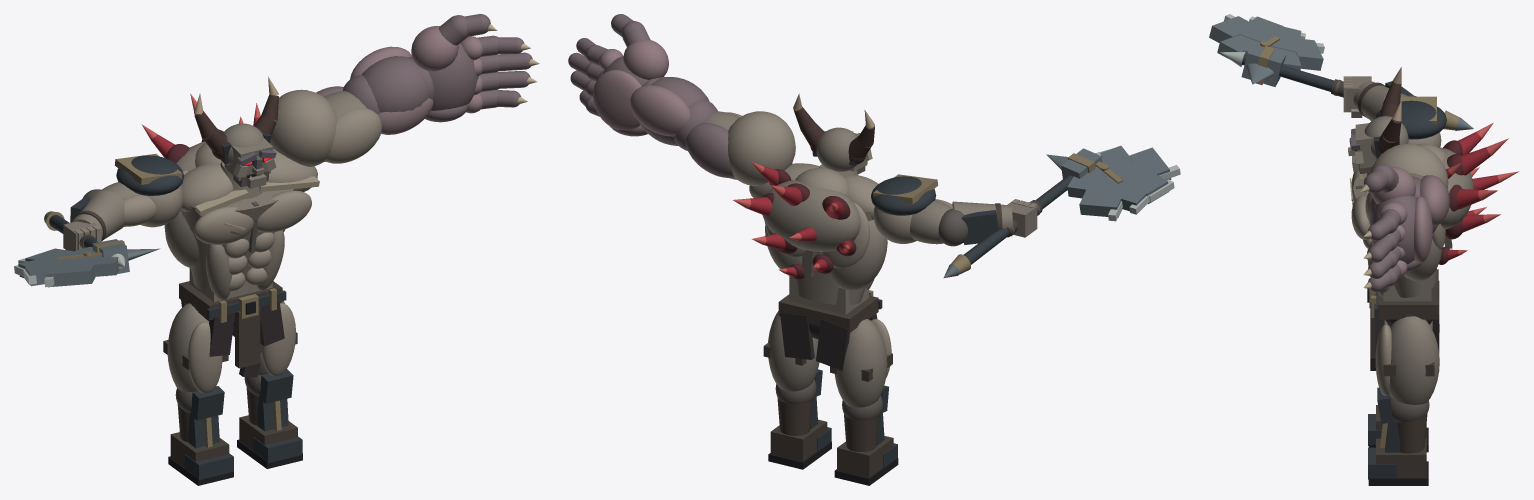
Rendered from FSA_ENEMY_D001_Chaos.glb.
3 renders of one model, left to right at view 1: azimuth 30°, elevation 25°; view 2: azimuth 150°, elevation 25°; view 3: azimuth 270°, elevation 25°, orthographic. The views are drawn at different scales.
Visible parts, largest first — view 1: Deltoid_L, ForearmMesh_L, Biceps_L, Palm_L, Ribcage, Thigh_R, Trapezius_R, Pauldron_R, Quadriceps_R, Pectoral_R, Pectoral_L, ThumbBase_L (+30 smaller); view 2: Deltoid_L, HunchedUpperBack, Thigh_R, ForearmExtensor_L, PalmDorsal_L, Thigh_L, Triceps_L, Latissimus_R, Pauldron_R, Belt, ThumbBase_L, Ribcage (+24 smaller); view 3: Thigh_L, Deltoid_L, Pauldron_R, Belt, Boot_L, PalmDorsal_L, Palm_L, ForearmExtensor_L, Quadriceps_L, Shin_L, HunchedUpperBack, ForearmMesh_R (+28 smaller).
Part boxes in pixels (<box>): Deltoid_L: <box>270,89,336,166</box>; ForearmMesh_L: <box>361,56,428,112</box>; Biceps_L: <box>325,108,381,163</box>; Palm_L: <box>428,43,478,110</box>; Ribcage: <box>180,189,294,291</box>; Thigh_R: <box>167,303,209,391</box>; Trapezius_R: <box>181,163,233,211</box>; Pauldron_R: <box>116,155,183,195</box>; Quadriceps_R: <box>188,322,222,393</box>; Pectoral_R: <box>193,206,253,244</box>; Pectoral_L: <box>257,190,311,232</box>; ThumbBase_L: <box>411,26,458,71</box>; Deltoid_L: <box>728,111,795,186</box>; HunchedUpperBack: <box>762,180,860,251</box>; Thigh_R: <box>834,319,887,407</box>; ForearmExtensor_L: <box>630,85,690,136</box>; PalmDorsal_L: <box>593,70,641,130</box>; Thigh_L: <box>768,311,819,391</box>; Triceps_L: <box>685,122,734,177</box>; Latissimus_R: <box>829,220,887,290</box>; Pauldron_R: <box>871,176,936,215</box>; Belt: <box>778,294,878,333</box>; ThumbBase_L: <box>623,39,668,79</box>; Ribcage: <box>796,211,873,304</box>; Thigh_L: <box>1389,316,1439,404</box>; Deltoid_L: <box>1370,143,1448,188</box>; Pauldron_R: <box>1376,100,1446,139</box>; Belt: <box>1377,269,1438,319</box>; Boot_L: <box>1376,438,1426,478</box>; PalmDorsal_L: <box>1414,196,1432,263</box>; Palm_L: <box>1371,196,1415,264</box>; ForearmExtensor_L: <box>1420,176,1448,226</box>; Quadriceps_L: <box>1375,324,1391,395</box>; Shin_L: <box>1397,414,1427,453</box>; HunchedUpperBack: <box>1440,147,1473,229</box>; ForearmMesh_R: <box>1353,81,1408,120</box>.
Bounding box in the file's own units: 6.09 × 4.1 × 2.89.
